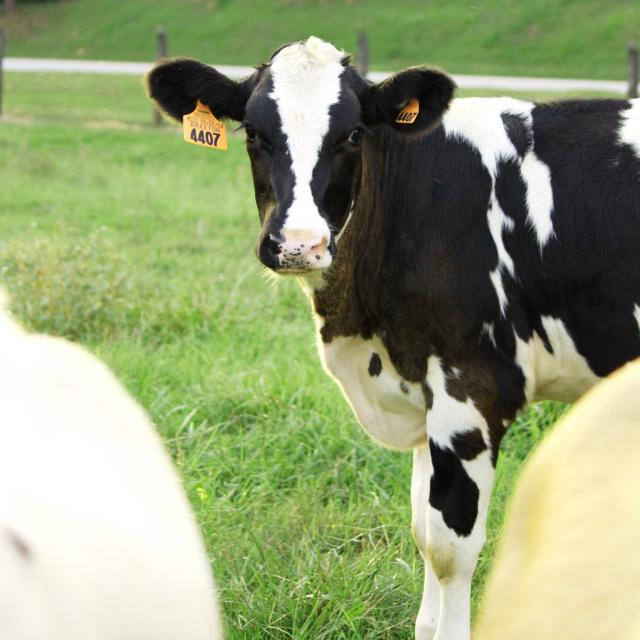cow: (147, 38, 638, 640)
